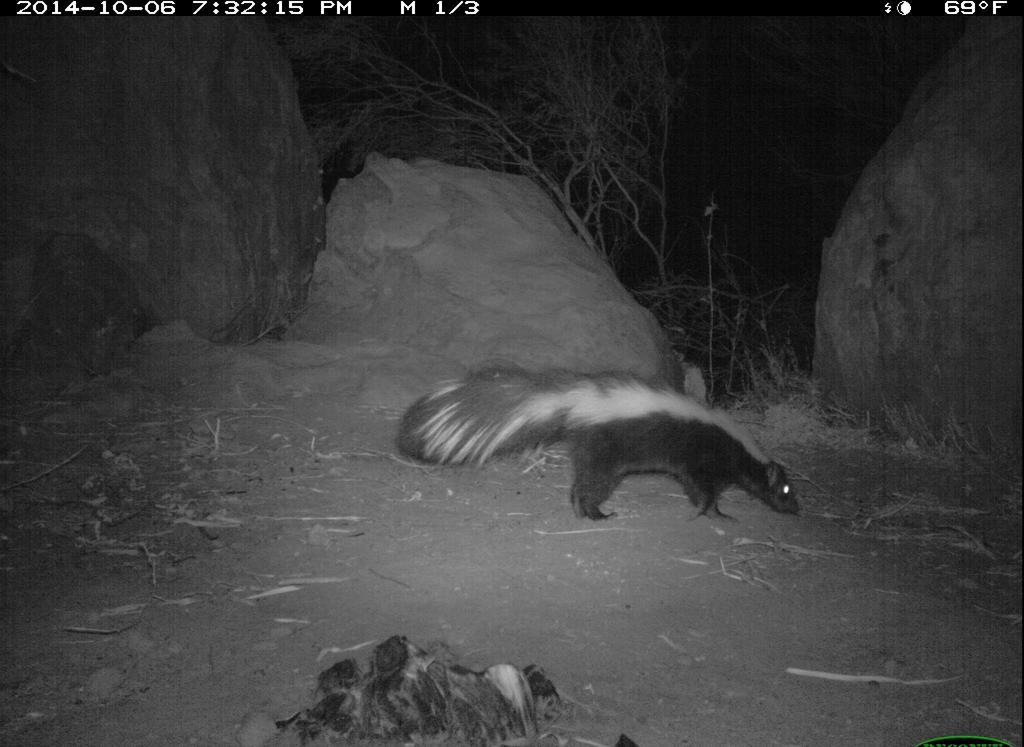skunk: (393, 340, 813, 547)
